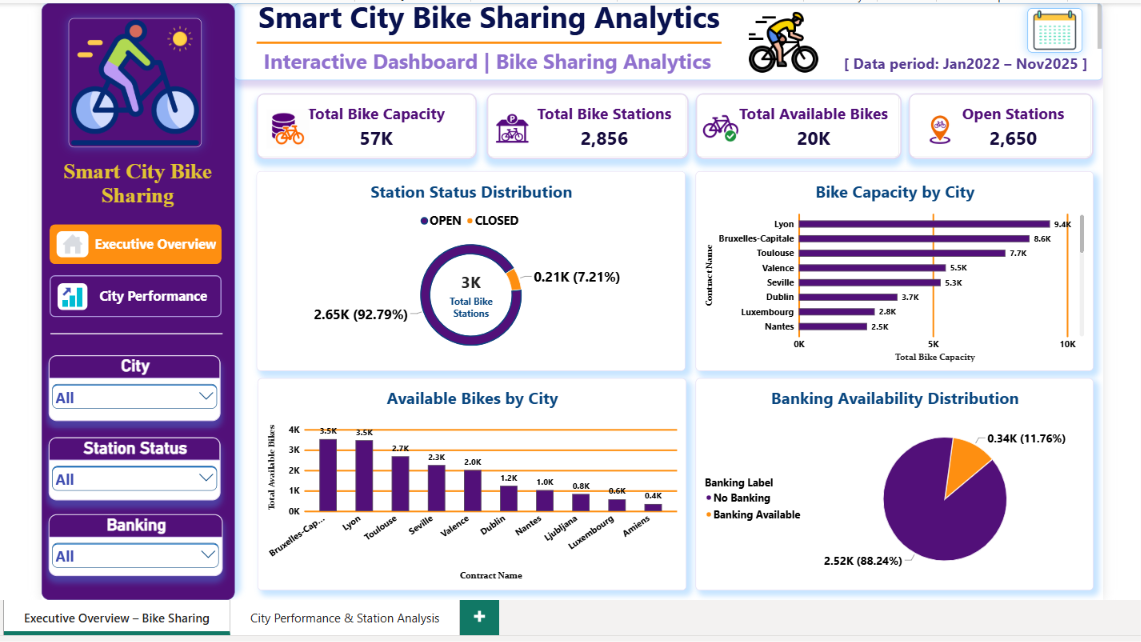

Layout of this report page (visuals, bound fields, positions):
{"tool":"powerbi","page":{"name":"Executive Overview – Bike Sharing","canvas":[1920,1080],"ordinal":0},"visuals":[{"type":"textbox","box":[349.3,0,1570.8,139.3],"z":0},{"type":"textbox","box":[0,0,349.3,1080.4],"z":1000},{"type":"shape","box":[389.1,27.1,841.5,88.7],"z":2000},{"type":"image","box":[48.9,27.1,240.7,233.4],"z":3000},{"type":"image","box":[211.7,41.6,77.8,45.2],"z":4000},{"type":"actionButton","title":"Executive Overview","box":[14.5,399.9,311.3,72.4],"z":5000},{"type":"image","box":[27.1,412.6,57.9,47.1],"z":6000},{"type":"image","box":[1784.6,8.2,99.5,79.6],"z":7000},{"type":"actionButton","box":[14.5,492.2,311.3,76],"z":8000},{"type":"image","box":[29,506.7,54.3,48.9],"z":9000},{"type":"shape","box":[12.7,275.1,322.1,119.4],"z":10000},{"type":"image","box":[1265.9,6.2,152,130.3],"z":11000},{"type":"slicer","title":"City","fields":{"Values":["Bike_Stations_Clean.Contract Name"]},"box":[12.7,637,311.3,119.4],"z":12000},{"type":"slicer","title":"Station Status","fields":{"Values":["Bike_Stations_Clean.Status"]},"box":[12.7,785.4,311.3,114],"z":13000},{"type":"slicer","title":"Banking","fields":{"Values":["Bike_Stations_Clean.Banking"]},"box":[12.7,924.7,314.9,112.2],"z":14000},{"type":"cardVisual","title":"Total Bike Stations","fields":{"Data":["Bike_Stations_Clean.Total Bike Stations Display"]},"box":[805.3,162.9,365.6,119.4],"z":15000},{"type":"cardVisual","fields":{"Data":["Bike_Stations_Clean.Total Bike Capacity"]},"box":[389.1,162.9,398.1,119.4],"z":16000},{"type":"cardVisual","fields":{"Data":["Bike_Stations_Clean.Total Available Bikes"]},"box":[1183.5,162.9,372.8,119.4],"z":17000},{"type":"shape","box":[16.3,591.8,311.3,12.7],"z":18000},{"type":"cardVisual","title":"Open Stations","fields":{"Data":["Bike_Stations_Clean.Open Stations Display"]},"box":[1569,162.9,334.8,119.4],"z":19000},{"type":"image","box":[407.2,190,77.8,74.2],"z":20000},{"type":"image","box":[814.3,175.5,74.2,99.5],"z":21000},{"type":"image","box":[1192.6,188.2,74.2,76],"z":22000},{"type":"image","box":[1590.7,197.3,72.4,61.5],"z":23000},{"type":"donutChart","title":"Station Status Distribution","fields":{"Category":["Bike_Stations_Clean.Status"],"Y":["Bike_Stations_Clean.Total Bike Stations"]},"box":[389.1,304,776.3,361.9],"z":24000},{"type":"clusteredBarChart","title":"Bike Capacity by City","fields":{"Category":["Bike_Stations_Clean.Contract Name"],"Y":["Bike_Stations_Clean.Total Bike Capacity"]},"box":[1183.5,304,720.2,361.9],"z":25000},{"type":"clusteredColumnChart","title":"Available Bikes by City","fields":{"Category":["Bike_Stations_Clean.Contract Name"],"Y":["Bike_Stations_Clean.Total Available Bikes"]},"box":[390.9,678.6,776.3,383.6],"z":26000},{"type":"pieChart","title":"Banking Availability Distribution","fields":{"Category":["Bike_Stations_Clean.Banking Label"],"Y":["CountNonNull(Bike_Stations_Clean.Number)"]},"box":[1183.5,678.6,720.2,383.6],"z":27000}]}

Visuals, with their boxes on the page's 1920x1080 design canvas (x1, y1, x2, y2). These are canvas units, not pixel positions in the 1141x642 screenshot, which may show the page scaled, cropped or inside an application window:
textbox: [left=349, top=0, right=1920, bottom=139]
textbox: [left=0, top=0, right=349, bottom=1080]
shape: [left=389, top=27, right=1231, bottom=116]
image: [left=49, top=27, right=290, bottom=260]
image: [left=212, top=42, right=290, bottom=87]
"Executive Overview" actionButton: [left=14, top=400, right=326, bottom=472]
image: [left=27, top=413, right=85, bottom=460]
image: [left=1785, top=8, right=1884, bottom=88]
actionButton: [left=14, top=492, right=326, bottom=568]
image: [left=29, top=507, right=83, bottom=556]
shape: [left=13, top=275, right=335, bottom=394]
image: [left=1266, top=6, right=1418, bottom=136]
"City" slicer: [left=13, top=637, right=324, bottom=756]
"Station Status" slicer: [left=13, top=785, right=324, bottom=899]
"Banking" slicer: [left=13, top=925, right=328, bottom=1037]
"Total Bike Stations" cardVisual: [left=805, top=163, right=1171, bottom=282]
cardVisual - Bike_Stations_Clean.Total Bike Capacity: [left=389, top=163, right=787, bottom=282]
cardVisual - Bike_Stations_Clean.Total Available Bikes: [left=1184, top=163, right=1556, bottom=282]
shape: [left=16, top=592, right=328, bottom=604]
"Open Stations" cardVisual: [left=1569, top=163, right=1904, bottom=282]
image: [left=407, top=190, right=485, bottom=264]
image: [left=814, top=176, right=888, bottom=275]
image: [left=1193, top=188, right=1267, bottom=264]
image: [left=1591, top=197, right=1663, bottom=259]
"Station Status Distribution" donutChart: [left=389, top=304, right=1165, bottom=666]
"Bike Capacity by City" clusteredBarChart: [left=1184, top=304, right=1904, bottom=666]
"Available Bikes by City" clusteredColumnChart: [left=391, top=679, right=1167, bottom=1062]
"Banking Availability Distribution" pieChart: [left=1184, top=679, right=1904, bottom=1062]
